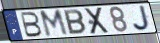8: (109, 6, 128, 34)
B: (20, 11, 44, 38), (63, 9, 87, 36)
J: (132, 5, 152, 33)
M: (38, 8, 70, 38)
X: (84, 6, 112, 36)
